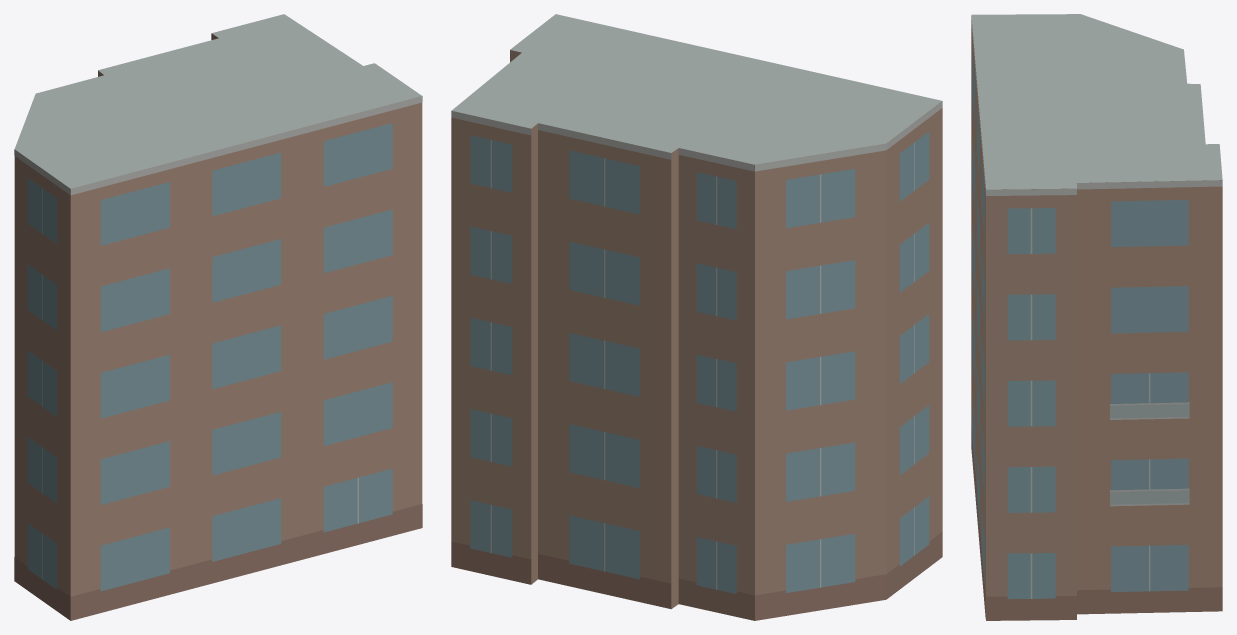
Rendered from survey-upis-32586998.glb.
3 views of the same model, side by side, from view 1: azimuth 30°, elevation 25°; view 2: azimuth 150°, elevation 25°; view 3: azimuth 270°, elevation 25° (orthographic). The views are drawn at different scales.
Parts seen in each view (by area): view 1: survey-upis-32586998.tmp; view 2: survey-upis-32586998.tmp; view 3: survey-upis-32586998.tmp.
Boxes of the visible parts, x1,y1,x2,y2 form: survey-upis-32586998.tmp: (14,14,422,620); survey-upis-32586998.tmp: (451,14,942,620); survey-upis-32586998.tmp: (971,14,1222,620).
Size of the model in its own units: 14.25 by 16.3 by 8.62.
